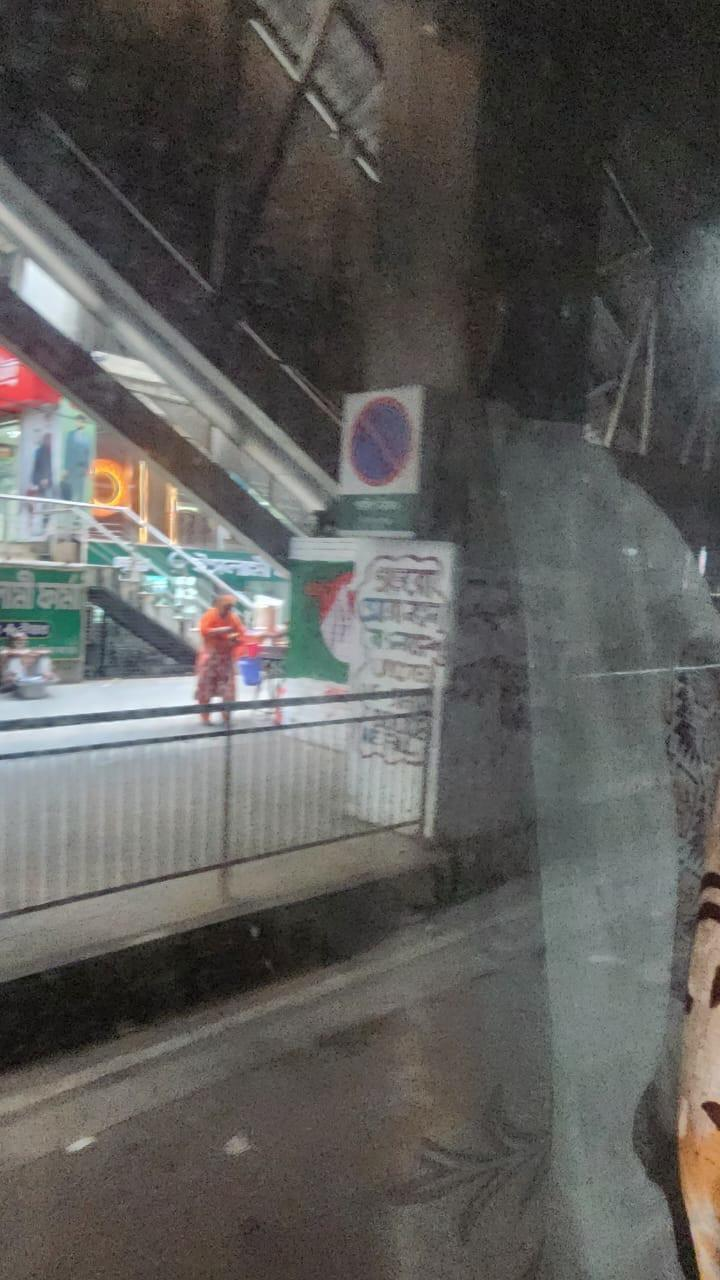No Parking: (332, 385, 427, 537)
